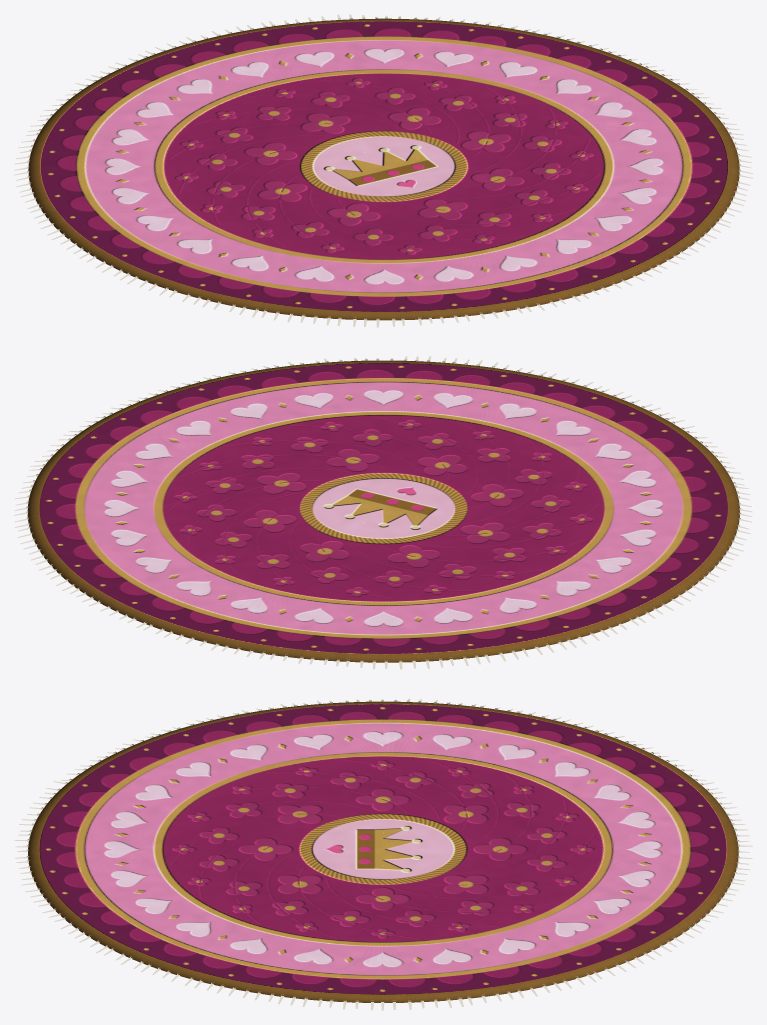
Rendered from citadel_trapdoor_rug.glb.
3 views of the same model, one above another, from view 1: azimuth 30°, elevation 25°; view 2: azimuth 150°, elevation 25°; view 3: azimuth 270°, elevation 25° (orthographic).
Visible parts, largest first — view 1: rug, fringe; view 2: rug, fringe; view 3: rug, fringe.
Boxes of the visible parts, x1=… form: rug: x1=28, y1=18, x2=739, y2=320; fringe: x1=14, y1=14, x2=752, y2=327; rug: x1=27, y1=360, x2=739, y2=662; fringe: x1=14, y1=356, x2=752, y2=669; rug: x1=28, y1=701, x2=738, y2=1002; fringe: x1=14, y1=698, x2=752, y2=1010.
Bounding box in the file's own units: 6.96 × 0.0525 × 6.96.
2 materials, 1 textured.
